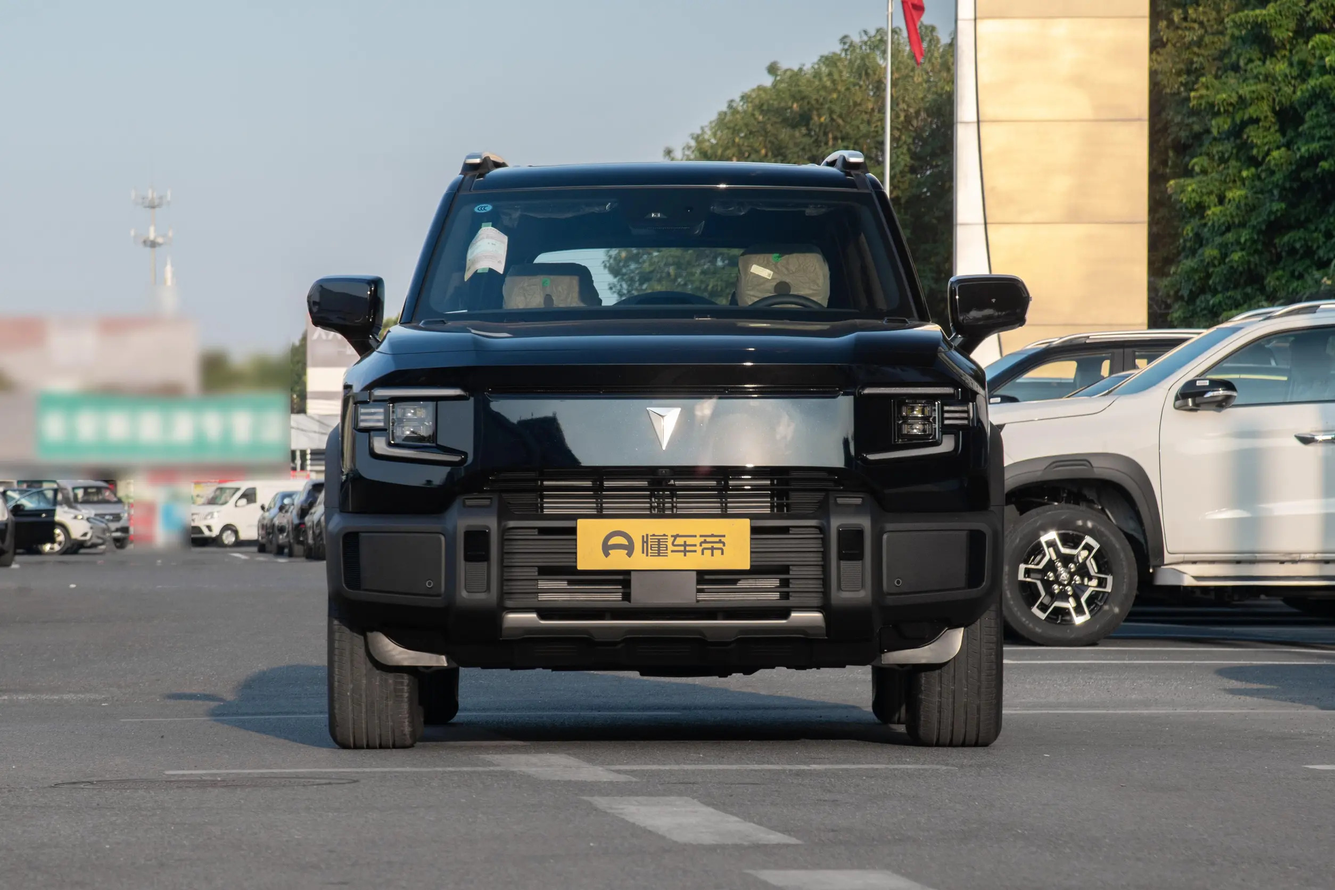Deepal: (647, 407, 681, 449)
